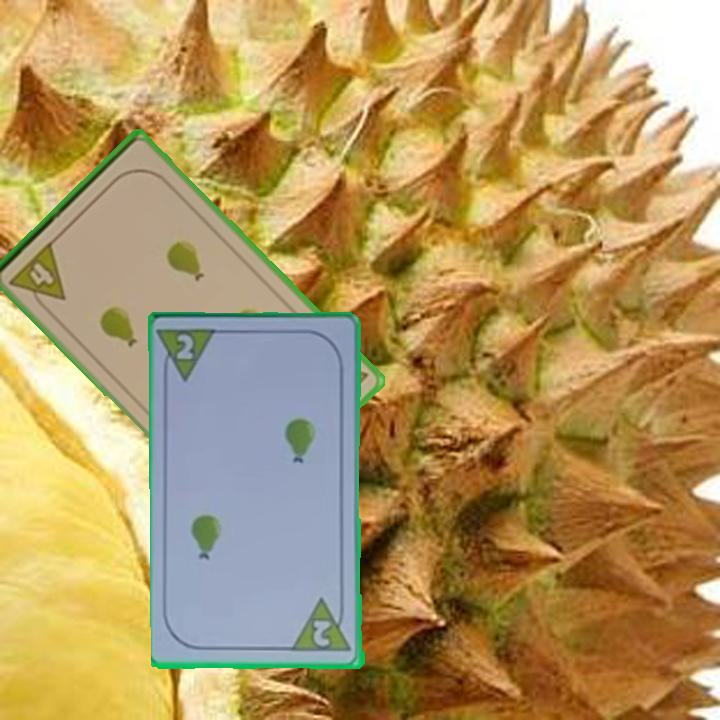2p: (157, 325, 222, 386), (291, 596, 355, 655)
4p: (5, 237, 69, 316)
